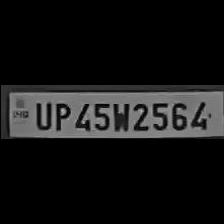2: (128, 100, 148, 132)
4: (189, 99, 211, 131), (70, 100, 90, 132)
5: (90, 99, 110, 130), (148, 99, 168, 130)
6: (169, 99, 187, 130)
P: (51, 100, 70, 132)
U: (31, 99, 50, 130)
W: (110, 100, 128, 132)
